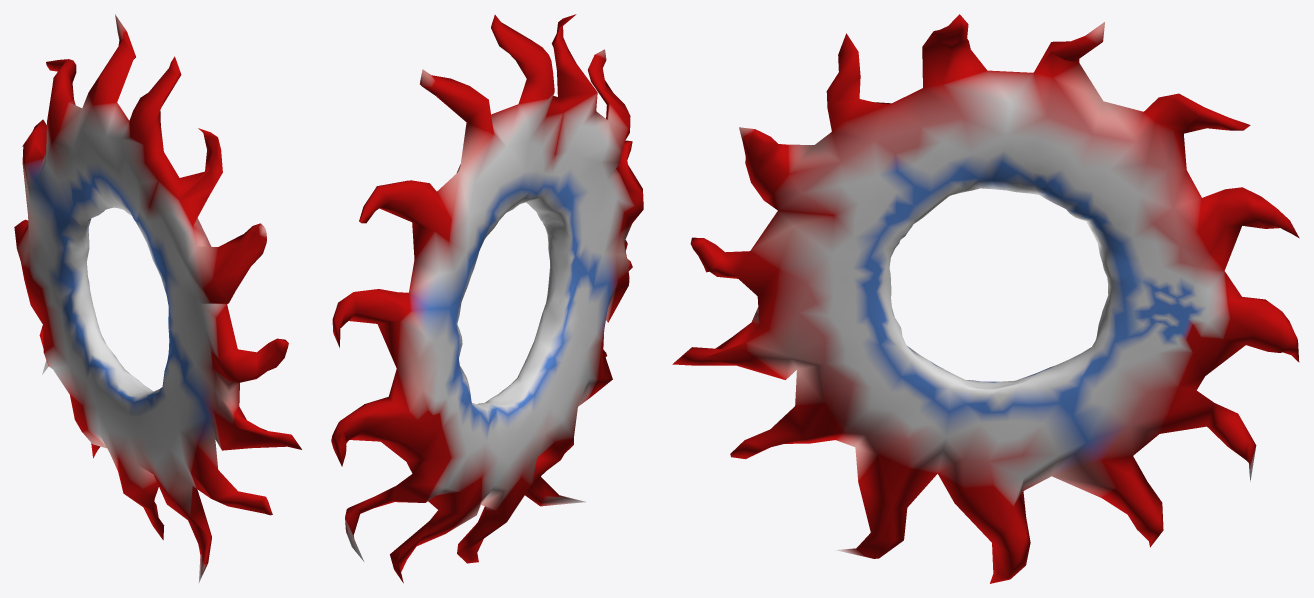
The model's file is sawblade2Damage.dae.
3 views of the same model, side by side, from view 1: azimuth 30°, elevation 25°; view 2: azimuth 150°, elevation 25°; view 3: azimuth 270°, elevation 25° (orthographic). The views are drawn at different scales.
Parts seen in each view (by area): view 1: Model; view 2: Model; view 3: Model.
Part boxes in pixels (bbox=[...]): Model: bbox=[14, 14, 301, 583]; Model: bbox=[331, 14, 643, 583]; Model: bbox=[672, 14, 1299, 583].
Size of the model in its own units: 0.937 by 7.46 by 7.46.
